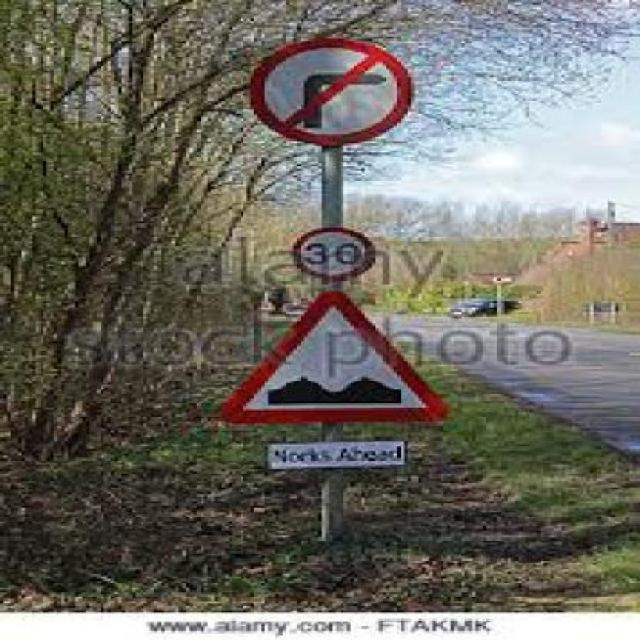forb_speed_over_30: (290, 226, 379, 285)
